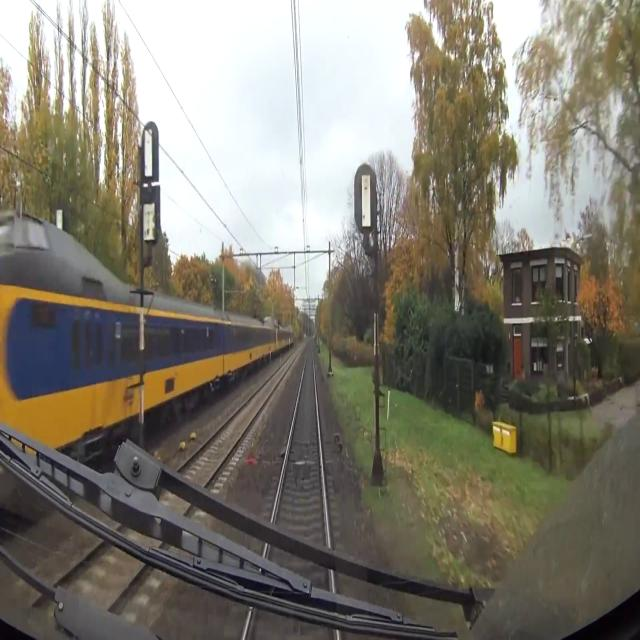rail-track: (176, 357, 292, 487), (273, 346, 327, 550)
